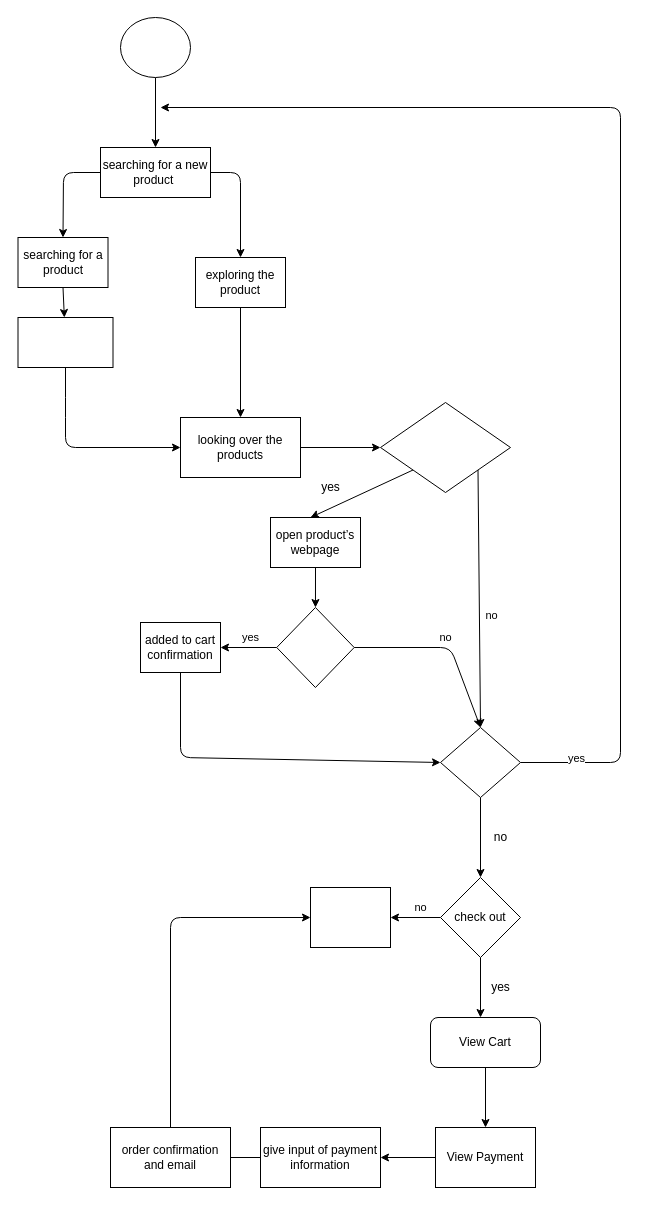
The diagram is 646 pixels wide and 1205 high, and some of its shapes have lost their labels. Each missing label, with the centre of its shape:
add to cart: pixel 315 647
continue shopping: pixel 480 762
leave the website: pixel 350 917
show search item: pixel 65 342
start: pixel 155 47
viewing a specific product: pixel 445 447
